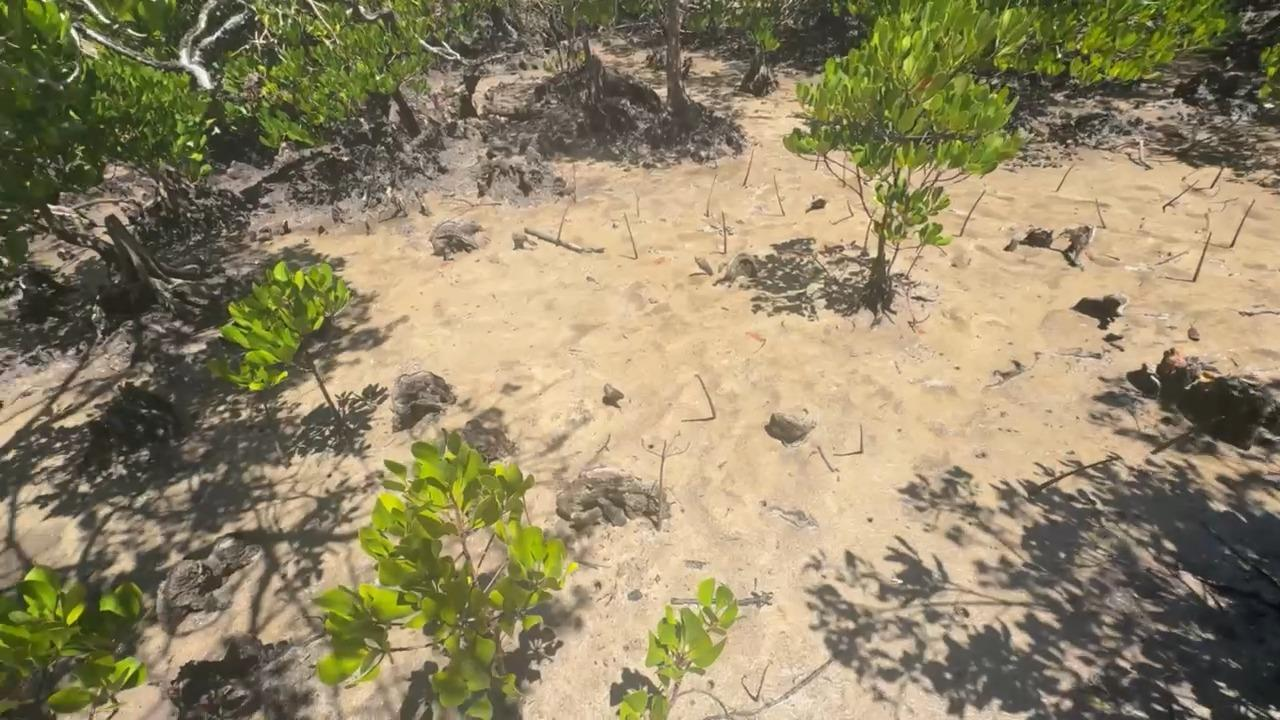Tree: (617, 577, 738, 720), (1028, 457, 1120, 495), (1150, 415, 1225, 459), (905, 220, 950, 280), (959, 189, 987, 237), (1230, 198, 1255, 248), (1162, 179, 1200, 210), (656, 440, 668, 530), (694, 373, 716, 419), (1193, 233, 1213, 283), (622, 211, 638, 259), (863, 205, 877, 256), (556, 204, 569, 247), (755, 663, 769, 702), (1056, 164, 1074, 194), (773, 176, 786, 216), (707, 173, 718, 218), (742, 151, 754, 186), (1209, 165, 1226, 188), (1095, 197, 1107, 229), (721, 210, 728, 255), (572, 164, 577, 204), (635, 190, 641, 216), (859, 424, 864, 452), (846, 198, 853, 216), (843, 157, 846, 188)
